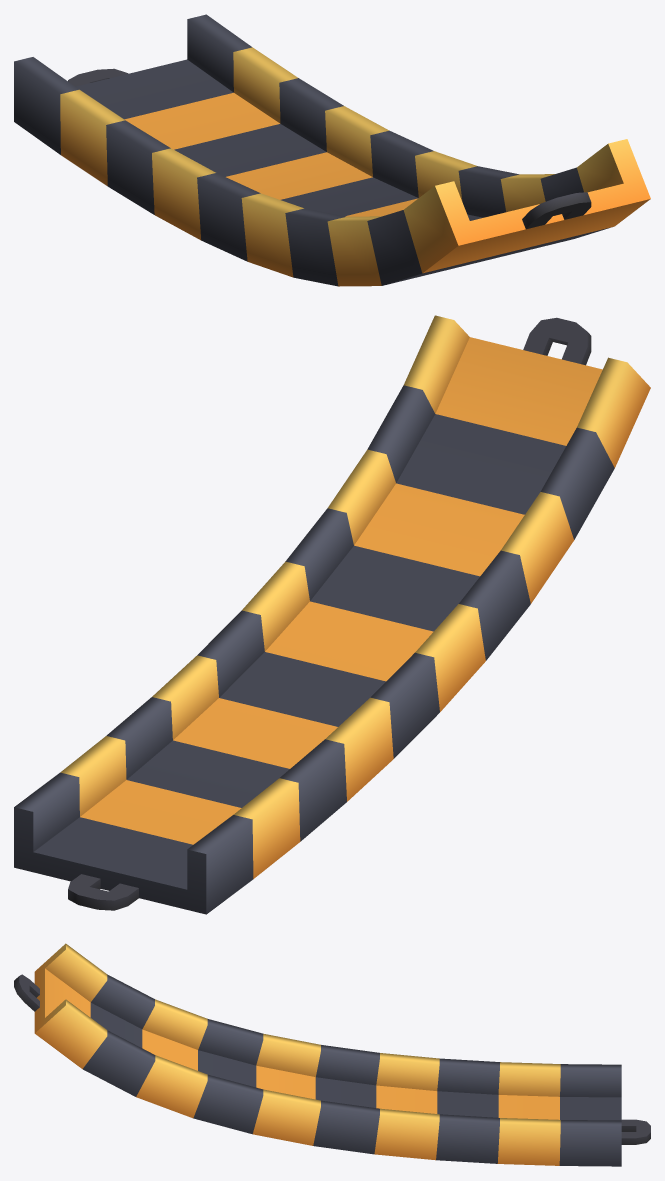
The model's file is track-striped-narrow-straight-hill-beginning.fbx.
3 views of the same model, one above another, from view 1: azimuth 30°, elevation 25°; view 2: azimuth 150°, elevation 25°; view 3: azimuth 270°, elevation 25° (orthographic). The views are drawn at different scales.
Visible parts, largest first — view 1: track-striped-narrow-straight-hill-beginning; view 2: track-striped-narrow-straight-hill-beginning; view 3: track-striped-narrow-straight-hill-beginning.
Part boxes in pixels (<box>): track-striped-narrow-straight-hill-beginning: <box>14,14,650,286</box>; track-striped-narrow-straight-hill-beginning: <box>14,315,650,914</box>; track-striped-narrow-straight-hill-beginning: <box>14,943,650,1166</box>.
Bounding box in the file's own units: 100 × 121 × 434.
